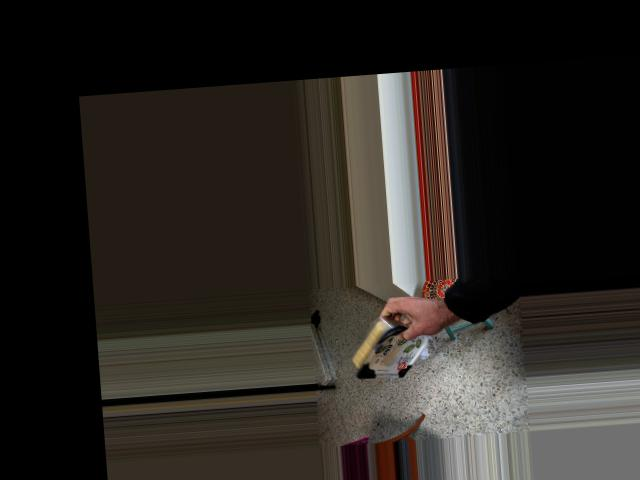cheese: (328, 289, 428, 406)
